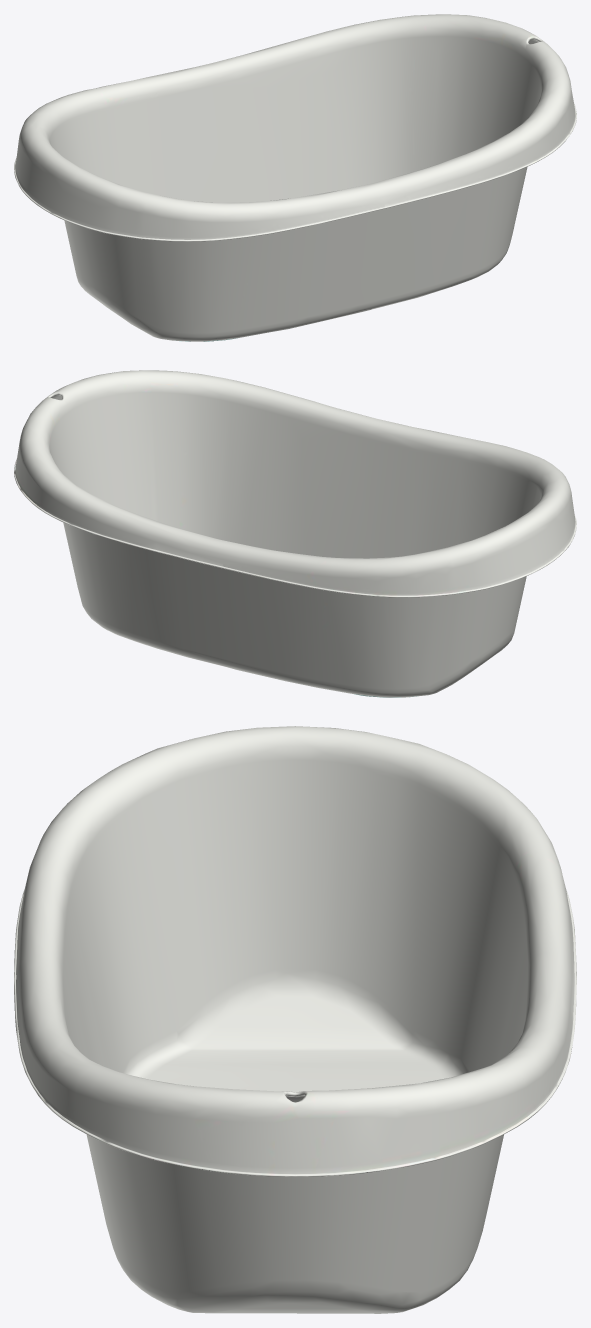
3 renders of one model, top to bottom at view 1: azimuth 30°, elevation 25°; view 2: azimuth 150°, elevation 25°; view 3: azimuth 270°, elevation 25°, orthographic. The views are drawn at different scales.
Parts seen in each view (by area): view 1: ASY_ART_10591573_S01_NV01; view 2: ASY_ART_10591573_S01_NV01; view 3: ASY_ART_10591573_S01_NV01.
Part boxes in pixels (box(x1,y1,x2,y2)): ASY_ART_10591573_S01_NV01: box(14, 14, 576, 341); ASY_ART_10591573_S01_NV01: box(14, 370, 576, 697); ASY_ART_10591573_S01_NV01: box(14, 726, 576, 1313).
Size of the model in its own units: 0.7306 by 0.2445 by 0.4422.
Materials: 1 (1 with a texture image).
